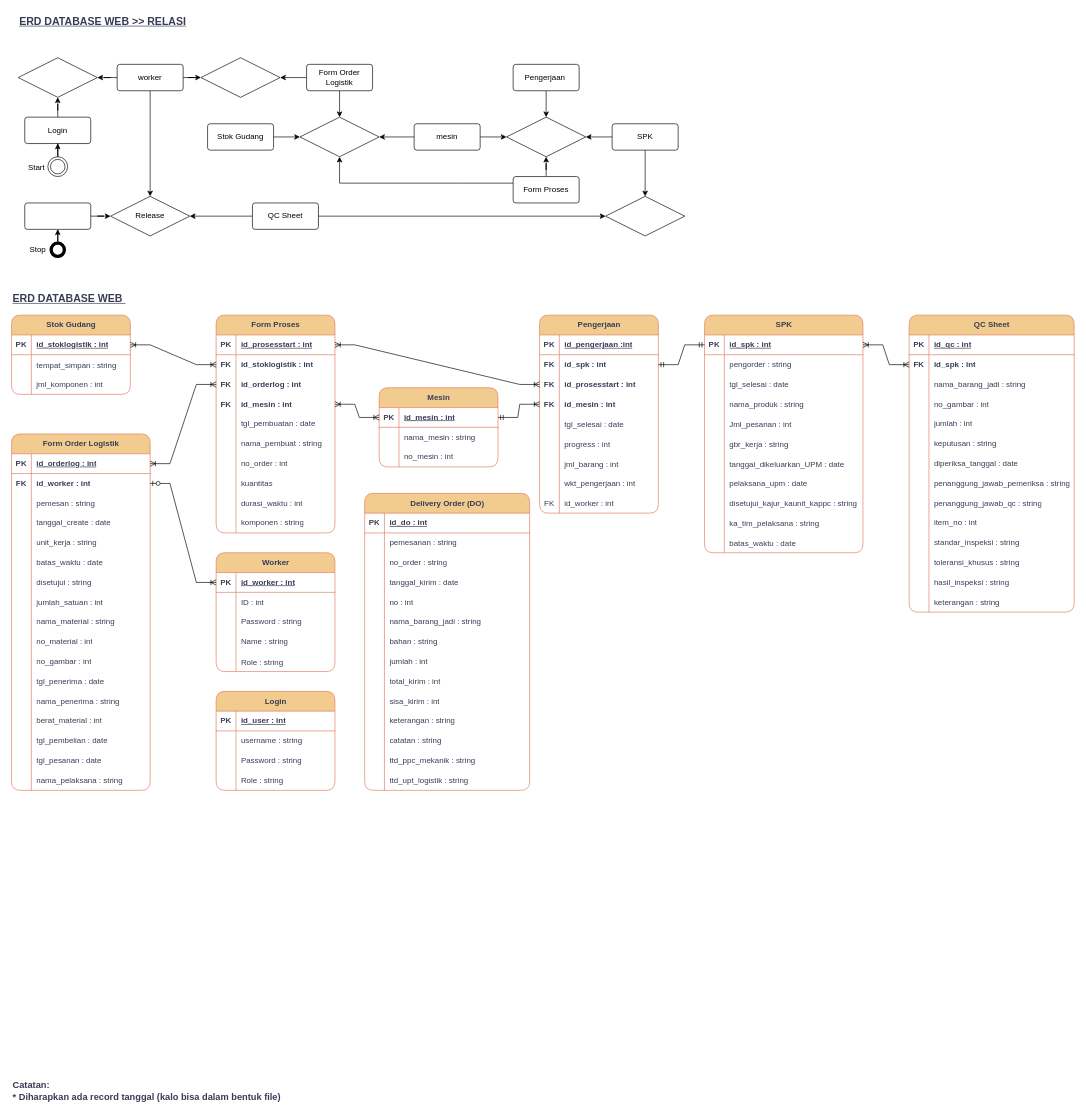
Some shapes in this 1086 by 1118 pixel diagram are drawn without their labels. Here are the shapes that lost their labels. From the top down, the centre of each, then its label:
point (57, 77): Akses
point (240, 77): Order
point (339, 136): Do
point (546, 136): Perintah
point (57, 215): Delivery Order
point (645, 216): verifikasi
